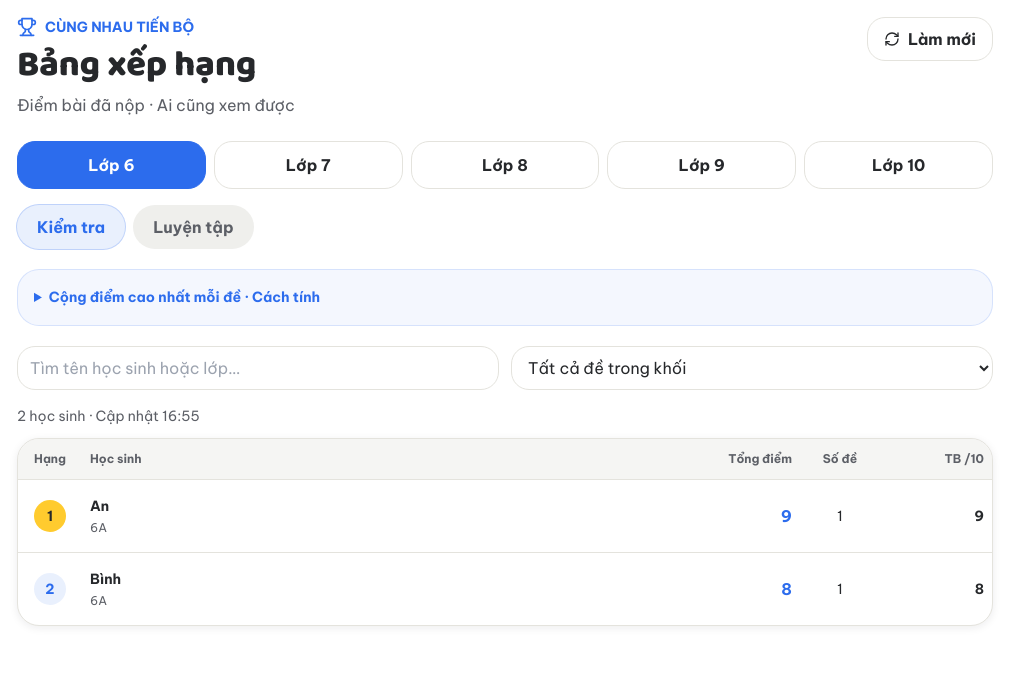
it: public rankings page › separates practice scores, preserves actual ranks when searching, and switches grades
expect the column heading "Bình" is shown: met, box top-left (90, 570), bottom-right (121, 588)
expect the text "Lan" is not shown: met
Type "binh" into the field named "Tìm học sinh hoặc lớp" at [258, 368], box top-left (17, 346), bottom-right (499, 390)
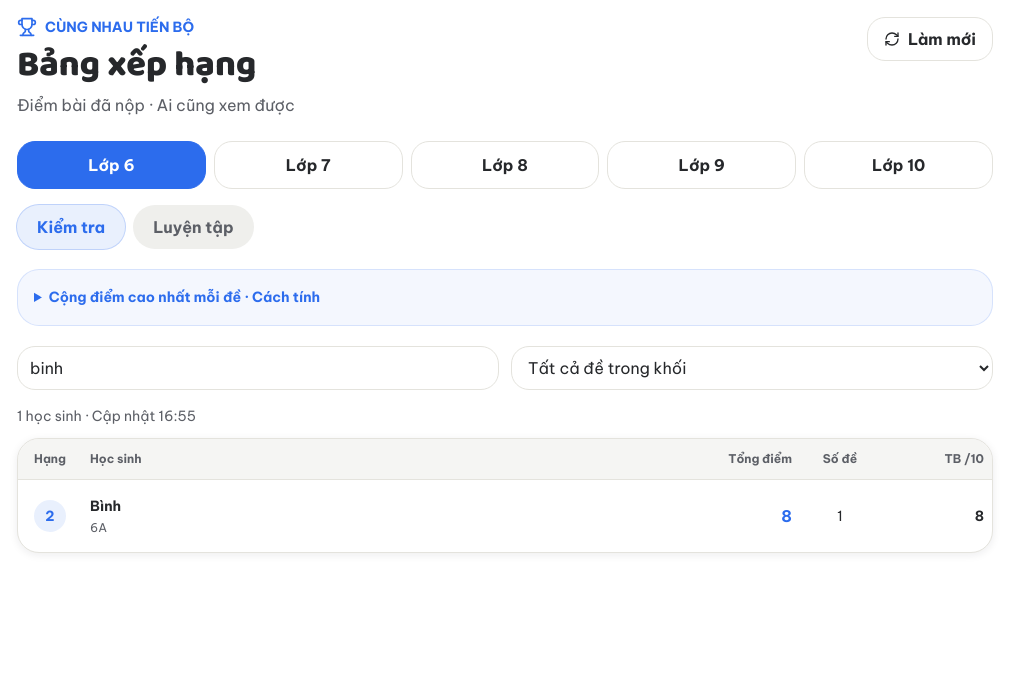
expect the row "2 Bình 6A 8 1 8" is shown: met, box top-left (18, 479), bottom-right (992, 552)
expect the column heading "An" is gone: met
Click the button "Luyện tập" at [193, 227], box top-left (133, 205), bottom-right (254, 249)
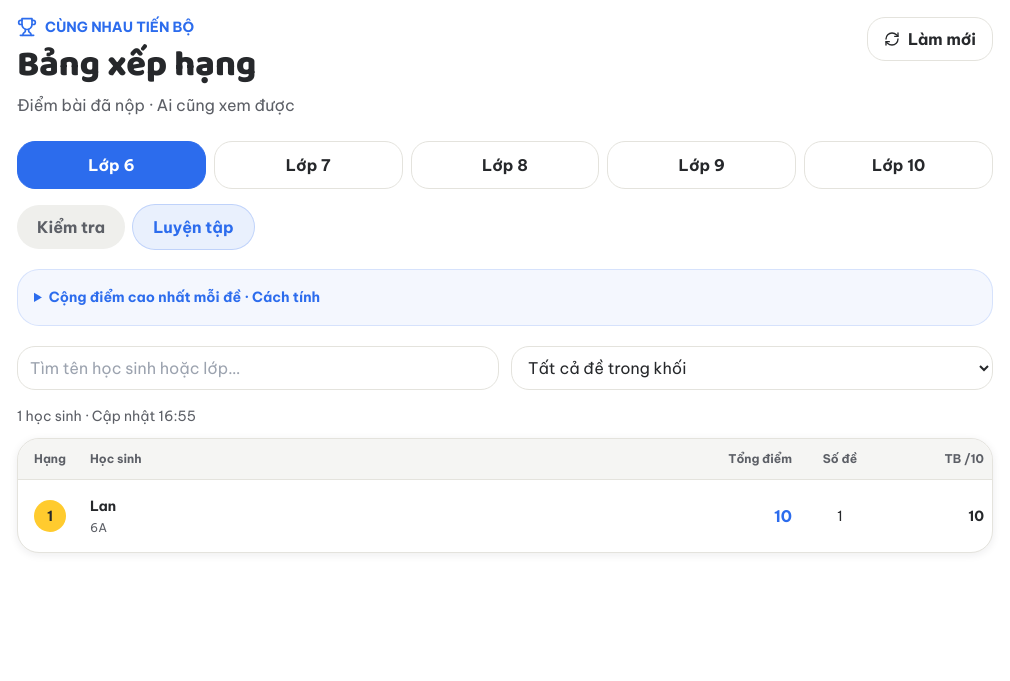
expect the column heading "Lan" is shown: met, box top-left (90, 497), bottom-right (116, 515)
expect the column heading "Bình" is gone: met
Click the button "Lớp 7" at [308, 165], box top-left (214, 141), bottom-right (403, 189)
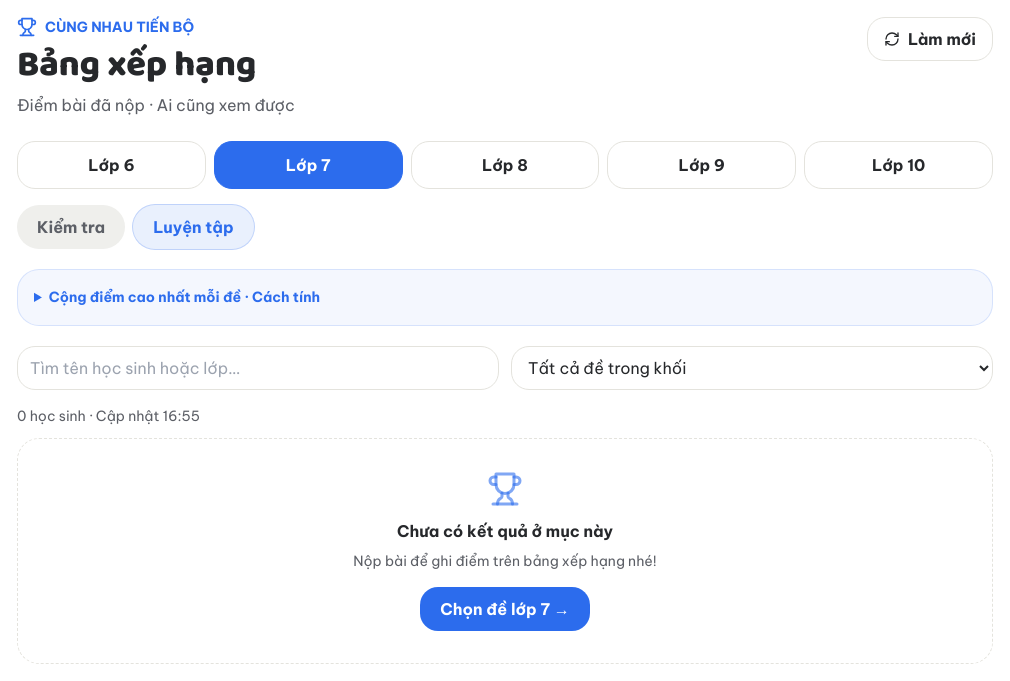
expect the text "Chưa có kết quả ở mục này" is shown: met, box top-left (397, 521), bottom-right (613, 541)
